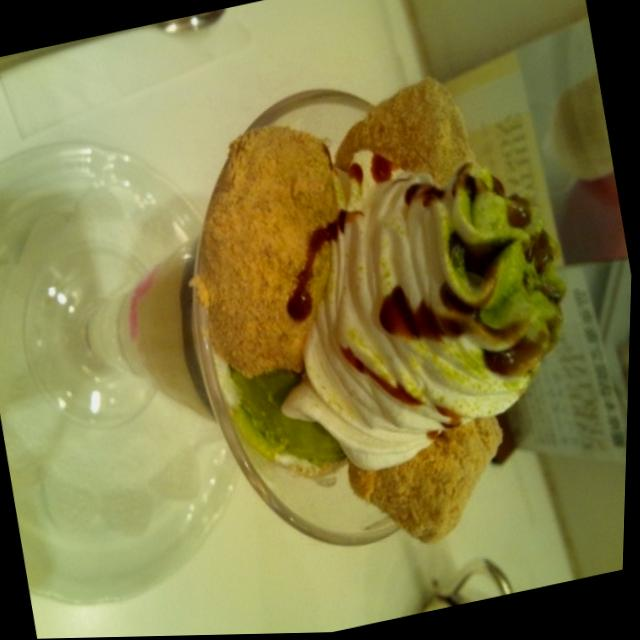蛋糕甜品: (0, 15, 639, 629)
